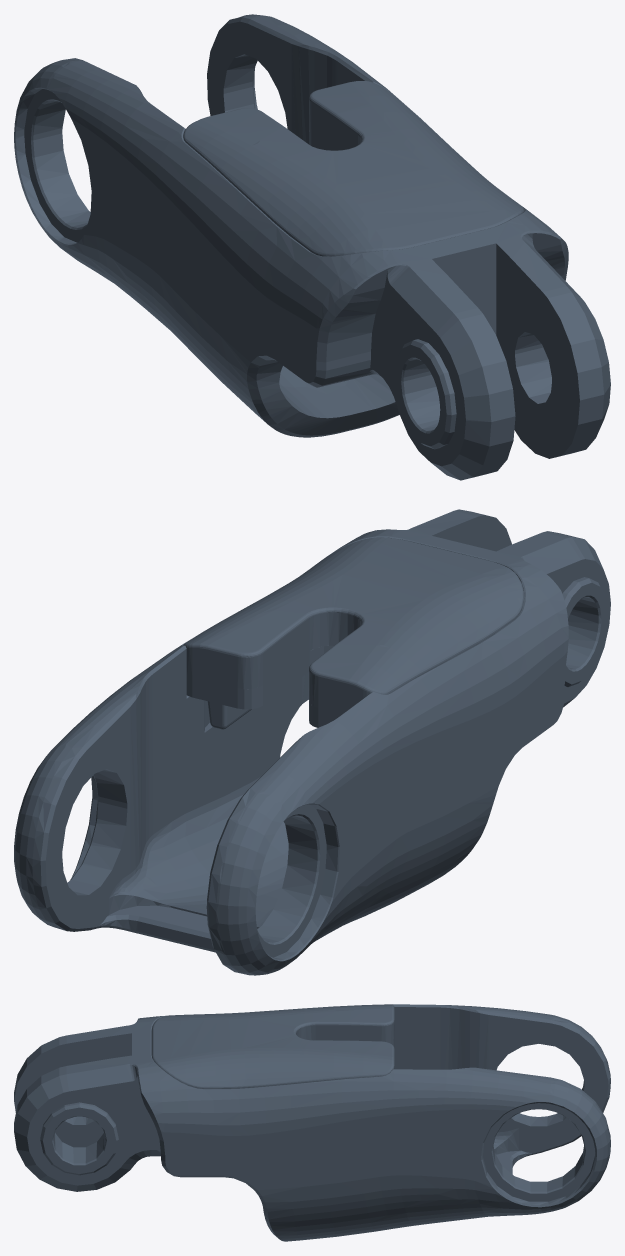
Rendered from R_little_prox.dae.
The picture shows the model from 3 angles, top to bottom: view 1: azimuth 30°, elevation 25°; view 2: azimuth 150°, elevation 25°; view 3: azimuth 270°, elevation 25°; orthographic projection. The views are drawn at different scales.
Parts seen in each view (by area): view 1: R_little_prox; view 2: R_little_prox; view 3: R_little_prox.
Boxes of the visible parts, x1,y1,x2,y2 form: R_little_prox: (14,14,610,480); R_little_prox: (14,509,610,975); R_little_prox: (14,1004,610,1241).
Bounding box in the file's own units: 0.0154 × 0.0455 × 0.0166.
